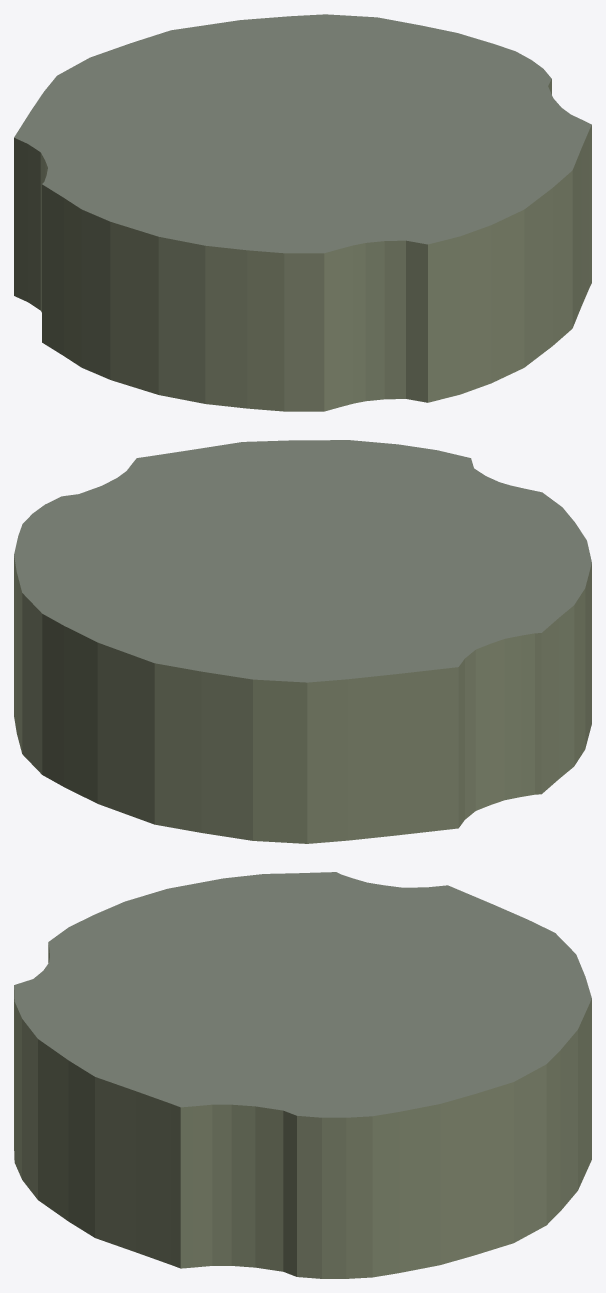
File: nyc-1091075-0.glb
3 renders of one model, top to bottom at view 1: azimuth 30°, elevation 25°; view 2: azimuth 150°, elevation 25°; view 3: azimuth 270°, elevation 25°, orthographic.
Parts seen in each view (by area): view 1: nyc-1091075-0; view 2: nyc-1091075-0; view 3: nyc-1091075-0.
Boxes of the visible parts, x1=… form: nyc-1091075-0: x1=14, y1=14, x2=591, y2=411; nyc-1091075-0: x1=14, y1=440, x2=591, y2=843; nyc-1091075-0: x1=14, y1=872, x2=591, y2=1278.
Bounding box in the file's own units: 9.97 × 3.05 × 9.91.
